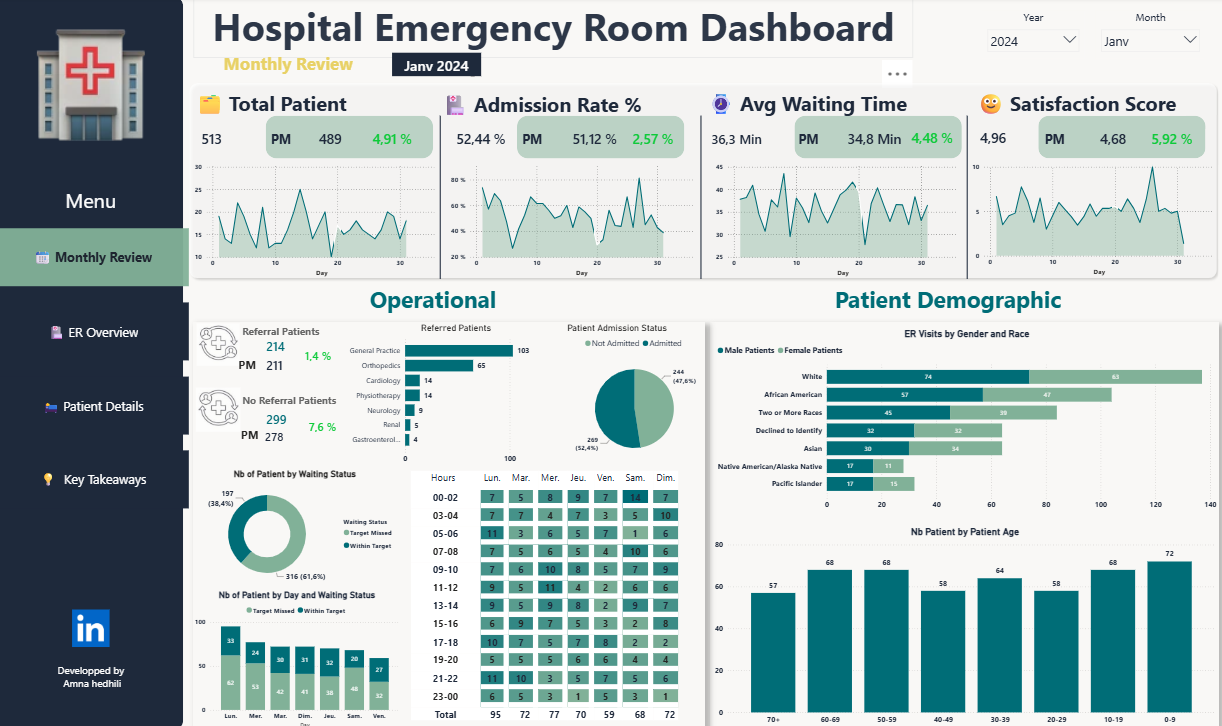

The dashboard page shown, as its layout file describes it:
{"tool":"powerbi","page":{"name":" 📆 Monthly Review","canvas":[2300,1400],"ordinal":0},"visuals":[{"type":"shape","box":[367.5,610,960,790],"z":0},{"type":"shape","box":[1337.5,610,957.5,790],"z":1000},{"type":"slicer","title":"Year","fields":{"Values":["Date Table.Year"]},"box":[1847.5,25,192.5,90],"z":2000},{"type":"shape","box":[0,0,349.5,1374.7],"z":3000},{"type":"textbox","box":[367.5,0,1352.5,115],"z":4000},{"type":"textbox","box":[418.8,97.5,352.5,73.8],"z":5000},{"type":"slicer","title":"Month","fields":{"Values":["Date Table.Month Name"]},"box":[2062.5,25,205,90],"z":6000},{"type":"shape","box":[352,152,1946,384],"z":7000},{"type":"textbox","box":[367.1,170,428.6,74.3],"z":8000},{"type":"shape","box":[1708,224,226,306],"z":9000},{"type":"shape","box":[1208,224,226,306],"z":10000},{"type":"shape","box":[718,224,228,306],"z":11000},{"type":"cardVisual","fields":{"Data":["Hospital ER_Data.Nb Of Patient"]},"box":[355,222.5,185,82.5],"z":12000},{"type":"textbox","box":[828,172,476,72],"z":13000},{"type":"textbox","box":[1327.1,170,477.1,74.3],"z":14000},{"type":"textbox","box":[1834.3,170,451.4,74.3],"z":15000},{"type":"textbox","box":[694,532,518,110],"z":16000},{"type":"textbox","box":[1566,532,518,110],"z":17000},{"type":"cardVisual","fields":{"Data":["Hospital ER_Data.Admission Rate %"]},"box":[832.5,222.5,185,82.5],"z":18000},{"type":"cardVisual","fields":{"Data":["Hospital ER_Data.Avg waiting time Min"]},"box":[1312.5,225,187.5,80],"z":19000},{"type":"cardVisual","fields":{"Data":["Hospital ER_Data.Avg Satisfaction Score"]},"box":[1815,220,187.5,85],"z":20000},{"type":"barChart","title":"ER Visits by Gender and Race","fields":{"Category":["Hospital ER_Data.Patient Race"],"Y":["Hospital ER_Data.Male Patients","Hospital ER_Data.Female Patients"]},"box":[1346.2,621.2,947.5,350],"z":21000},{"type":"columnChart","title":"Nb Patient by Patient Age","fields":{"Y":["Hospital ER_Data.Nb Of Patient"],"Category":["Hospital ER_Data.Age Group"]},"box":[1342.5,992.5,950,382.5],"z":22000},{"type":"stackedAreaChart","fields":{"Y":["Hospital ER_Data.Nb Of Patient"],"Category":["Date Table.Date.Variation.Hiérarchie de dates.Jour"]},"box":[366,304,464,226],"z":23000},{"type":"cardVisual","fields":{"Rows":["Date Table.Month & Year"]},"box":[737.5,80,177.5,185],"z":24000},{"type":"shape","box":[504,224,314,80],"z":25000},{"type":"textbox","box":[510,228,186,82],"z":26000},{"type":"cardVisual","fields":{"Data":["Hospital ER_Data.Patients PM"]},"box":[574,223,140,82],"z":27000},{"type":"cardVisual","fields":{"Data":["Hospital ER_Data.Patient MoM %"]},"box":[675,222.5,162.5,82.5],"z":28000},{"type":"shape","box":[976,224,314,80],"z":29000},{"type":"textbox","box":[980,228,186,82],"z":30000},{"type":"cardVisual","fields":{"Data":["Hospital ER_Data.Admission Rate PM"]},"box":[1050,225,186,80],"z":31000},{"type":"cardVisual","fields":{"Data":["Hospital ER_Data.Admission MoM %"]},"box":[1162.5,222.5,185,82.5],"z":32000},{"type":"stackedAreaChart","fields":{"Category":["Date Table.Date.Variation.Hiérarchie de dates.Jour"],"Y":["Hospital ER_Data.Admission Rate %"]},"box":[846,304,464,226],"z":33000},{"type":"stackedAreaChart","fields":{"Category":["Date Table.Date.Variation.Hiérarchie de dates.Jour"],"Y":["Hospital ER_Data.Avg Waiting Time"]},"box":[1344,304,464,226],"z":34000},{"type":"shape","box":[1496,224,314,80],"z":35000},{"type":"textbox","box":[1500,228,186,82],"z":36000},{"type":"cardVisual","fields":{"Data":["Hospital ER_Data.Avg Waiting Time PM Min"]},"box":[1566,225,186,80],"z":37000},{"type":"cardVisual","fields":{"Data":["Hospital ER_Data.Waiting MoM %"]},"box":[1687.5,220,185,85],"z":38000},{"type":"shape","box":[1954,224,314,80],"z":39000},{"type":"textbox","box":[1960,228,186,82],"z":40000},{"type":"cardVisual","fields":{"Data":["Hospital ER_Data.Avg Satisfaction PM"]},"box":[2042,225,186,80],"z":41000},{"type":"cardVisual","fields":{"Data":["Hospital ER_Data.Satisfaction MoM %"]},"box":[2136,223,164,82],"z":42000},{"type":"stackedAreaChart","fields":{"Category":["Date Table.Date.Variation.Hiérarchie de dates.Jour"],"Y":["Hospital ER_Data.Avg Satisfaction Score"]},"box":[1826,304,464,224],"z":43000},{"type":"barChart","title":"Referred Patients","fields":{"Category":["Hospital ER_Data.Department Referral"],"Y":["Hospital ER_Data.Nb of Referred Patients"]},"box":[645,610,432.5,275],"z":44000},{"type":"pieChart","title":"Patient Admission Status","fields":{"Y":["Hospital ER_Data.Not Admitted","Hospital ER_Data.Admitted"]},"box":[1065,609.9,262.7,274.5],"z":45000},{"type":"columnChart","title":"Nb of Patient by Day and Waiting Status","fields":{"Category":["Date Table.Day"],"Y":["Hospital ER_Data.Nb Of Patient"],"Series":["Hospital ER_Data.Waiting Satus"]},"box":[366,1112,394,266],"z":46000},{"type":"donutChart","title":"Nb of Patient by Waiting Status","fields":{"Y":["Hospital ER_Data.Nb Of Patient"],"Series":["Hospital ER_Data.Waiting Satus"]},"box":[360,884,400,228],"z":47000},{"type":"pivotTable","fields":{"Rows":["Hospital ER_Data.Hour  Group"],"Columns":["Date Table.Day"],"Values":["Hospital ER_Data.Nb Of Patient"]},"box":[771.8,884.4,548.9,492.6],"z":48000},{"type":"textbox","box":[0,351.9,351.9,126.7],"z":49000},{"type":"cardVisual","fields":{"Data":["Hospital ER_Data.Nb of Referred Patients"]},"box":[475.7,621.4,150,65.7],"z":50000},{"type":"textbox","box":[378.8,643.8,116.2,56.2],"z":51000},{"type":"image","box":[372.9,612.9,84.3,80],"z":52000},{"type":"textbox","box":[448.2,672.1,101.2,52.5],"z":53000},{"type":"cardVisual","fields":{"Data":["Hospital ER_Data.Referred Patient PM"]},"box":[475.7,657.1,150,64.3],"z":54000},{"type":"textbox","box":[456.2,610,188.8,42.5],"z":55000},{"type":"cardVisual","fields":{"Data":["Hospital ER_Data.Referred MoM %"]},"box":[550,643.7,140,58.6],"z":56000},{"type":"textbox","box":[456.2,738.8,227.5,42.5],"z":57000},{"type":"cardVisual","fields":{"Data":["Hospital ER_Data.No Referral Patients"]},"box":[475.8,757.4,150,65.7],"z":58000},{"type":"textbox","box":[453.7,802.8,101.2,52.5],"z":59000},{"type":"cardVisual","fields":{"Data":["Hospital ER_Data.No Referral Patients PM"]},"box":[474,790.7,150,65],"z":60000},{"type":"cardVisual","fields":{"Data":["Hospital ER_Data.No Referral Patients MoM %"]},"box":[555.7,776.5,132.9,57.1],"z":61000},{"type":"image","box":[372,728,84,94],"z":62000},{"type":"pageNavigator","box":[0,434,360,527.8],"z":63000},{"type":"image","box":[25.8,58.6,300.3,211.1],"z":64000},{"type":"image","box":[100.9,1149.5,150.1,70.4],"z":65000},{"type":"textbox","box":[25.8,1245.6,300.3,70.4],"z":66000}]}

Visuals, with their boxes in screenshot pixels (x1, y1, x2, y2), scaled from the page's 2300x1400 canvas onto the 1222x726 screenshot:
shape: x1=195 y1=316 x2=705 y2=725
shape: x1=711 y1=316 x2=1219 y2=725
"Year" slicer: x1=982 y1=13 x2=1084 y2=60
shape: x1=0 y1=0 x2=186 y2=713
textbox: x1=195 y1=0 x2=914 y2=60
textbox: x1=223 y1=51 x2=410 y2=89
"Month" slicer: x1=1096 y1=13 x2=1205 y2=60
shape: x1=187 y1=79 x2=1221 y2=278
textbox: x1=195 y1=88 x2=423 y2=127
shape: x1=907 y1=116 x2=1028 y2=275
shape: x1=642 y1=116 x2=762 y2=275
shape: x1=381 y1=116 x2=503 y2=275
cardVisual - Hospital ER_Data.Nb Of Patient: x1=189 y1=115 x2=287 y2=158
textbox: x1=440 y1=89 x2=693 y2=127
textbox: x1=705 y1=88 x2=959 y2=127
textbox: x1=975 y1=88 x2=1214 y2=127
textbox: x1=369 y1=276 x2=644 y2=333
textbox: x1=832 y1=276 x2=1107 y2=333
cardVisual - Hospital ER_Data.Admission Rate %: x1=442 y1=115 x2=541 y2=158
cardVisual - Hospital ER_Data.Avg waiting time Min: x1=697 y1=117 x2=797 y2=158
cardVisual - Hospital ER_Data.Avg Satisfaction Score: x1=964 y1=114 x2=1064 y2=158
"ER Visits by Gender and Race" barChart: x1=715 y1=322 x2=1219 y2=504
"Nb Patient by Patient Age" columnChart: x1=713 y1=515 x2=1218 y2=713
stackedAreaChart - Hospital ER_Data.Nb Of Patient x Date Table.Date.Variation.Hiérarchie de dates.Jour: x1=194 y1=158 x2=441 y2=275
cardVisual - Date Table.Month & Year: x1=392 y1=41 x2=486 y2=137
shape: x1=268 y1=116 x2=435 y2=158
textbox: x1=271 y1=118 x2=370 y2=161
cardVisual - Hospital ER_Data.Patients PM: x1=305 y1=116 x2=379 y2=158
cardVisual - Hospital ER_Data.Patient MoM %: x1=359 y1=115 x2=445 y2=158
shape: x1=519 y1=116 x2=685 y2=158
textbox: x1=521 y1=118 x2=620 y2=161
cardVisual - Hospital ER_Data.Admission Rate PM: x1=558 y1=117 x2=657 y2=158
cardVisual - Hospital ER_Data.Admission MoM %: x1=618 y1=115 x2=716 y2=158
stackedAreaChart - Date Table.Date.Variation.Hiérarchie de dates.Jour x Hospital ER_Data.Admission Rate %: x1=449 y1=158 x2=696 y2=275
stackedAreaChart - Date Table.Date.Variation.Hiérarchie de dates.Jour x Hospital ER_Data.Avg Waiting Time: x1=714 y1=158 x2=961 y2=275
shape: x1=795 y1=116 x2=962 y2=158
textbox: x1=797 y1=118 x2=896 y2=161
cardVisual - Hospital ER_Data.Avg Waiting Time PM Min: x1=832 y1=117 x2=931 y2=158
cardVisual - Hospital ER_Data.Waiting MoM %: x1=897 y1=114 x2=995 y2=158
shape: x1=1038 y1=116 x2=1205 y2=158
textbox: x1=1041 y1=118 x2=1140 y2=161
cardVisual - Hospital ER_Data.Avg Satisfaction PM: x1=1085 y1=117 x2=1184 y2=158
cardVisual - Hospital ER_Data.Satisfaction MoM %: x1=1135 y1=116 x2=1221 y2=158
stackedAreaChart - Date Table.Date.Variation.Hiérarchie de dates.Jour x Hospital ER_Data.Avg Satisfaction Score: x1=970 y1=158 x2=1217 y2=274
"Referred Patients" barChart: x1=343 y1=316 x2=572 y2=459
"Patient Admission Status" pieChart: x1=566 y1=316 x2=705 y2=459
"Nb of Patient by Day and Waiting Status" columnChart: x1=194 y1=577 x2=404 y2=715
"Nb of Patient by Waiting Status" donutChart: x1=191 y1=458 x2=404 y2=577
pivotTable - Hospital ER_Data.Hour  Group x Date Table.Day: x1=410 y1=459 x2=702 y2=714
textbox: x1=0 y1=182 x2=187 y2=248
cardVisual - Hospital ER_Data.Nb of Referred Patients: x1=253 y1=322 x2=332 y2=356
textbox: x1=201 y1=334 x2=263 y2=363
image: x1=198 y1=318 x2=243 y2=359
textbox: x1=238 y1=349 x2=292 y2=376
cardVisual - Hospital ER_Data.Referred Patient PM: x1=253 y1=341 x2=332 y2=374
textbox: x1=242 y1=316 x2=343 y2=338
cardVisual - Hospital ER_Data.Referred MoM %: x1=292 y1=334 x2=367 y2=364
textbox: x1=242 y1=383 x2=363 y2=405
cardVisual - Hospital ER_Data.No Referral Patients: x1=253 y1=393 x2=332 y2=427
textbox: x1=241 y1=416 x2=295 y2=444
cardVisual - Hospital ER_Data.No Referral Patients PM: x1=252 y1=410 x2=332 y2=444
cardVisual - Hospital ER_Data.No Referral Patients MoM %: x1=295 y1=403 x2=366 y2=432
image: x1=198 y1=378 x2=242 y2=426
pageNavigator: x1=0 y1=225 x2=191 y2=499
image: x1=14 y1=30 x2=173 y2=140
image: x1=54 y1=596 x2=133 y2=633
textbox: x1=14 y1=646 x2=173 y2=682
